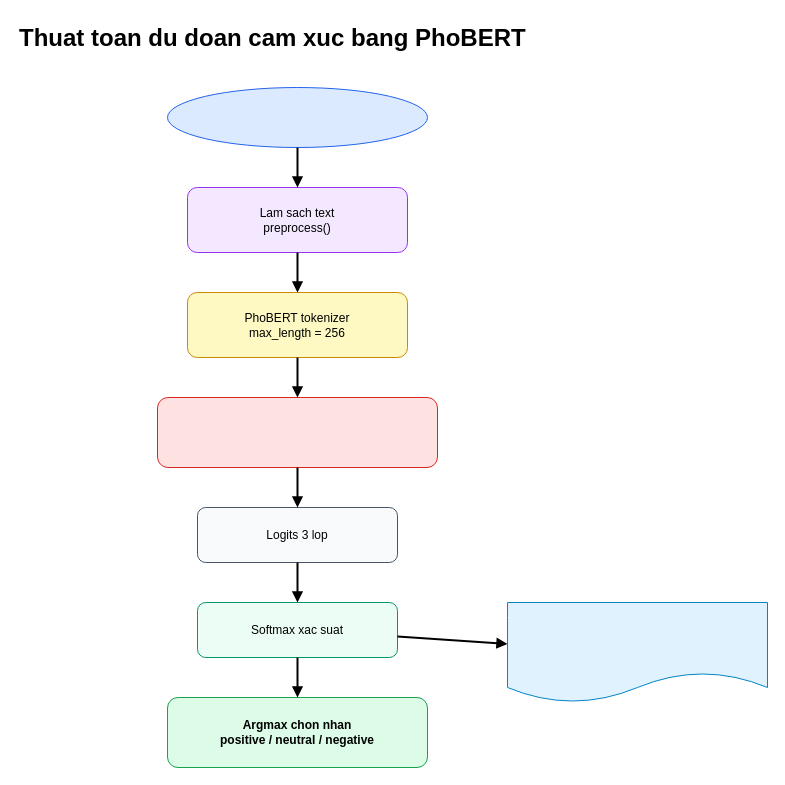
This 785x785 diagram has some shape labels left out. The shapes that lost their labels are listed below. From the top down, each one's centre as x and y in pixels, then its label:
At (x=297, y=117): "Input: 1 comment hoac batch comment".
At (x=297, y=432): "AutoModelForSequenceClassification".
At (x=637, y=652): "Output JSON sentiment, confidence, scores, text_clean".
